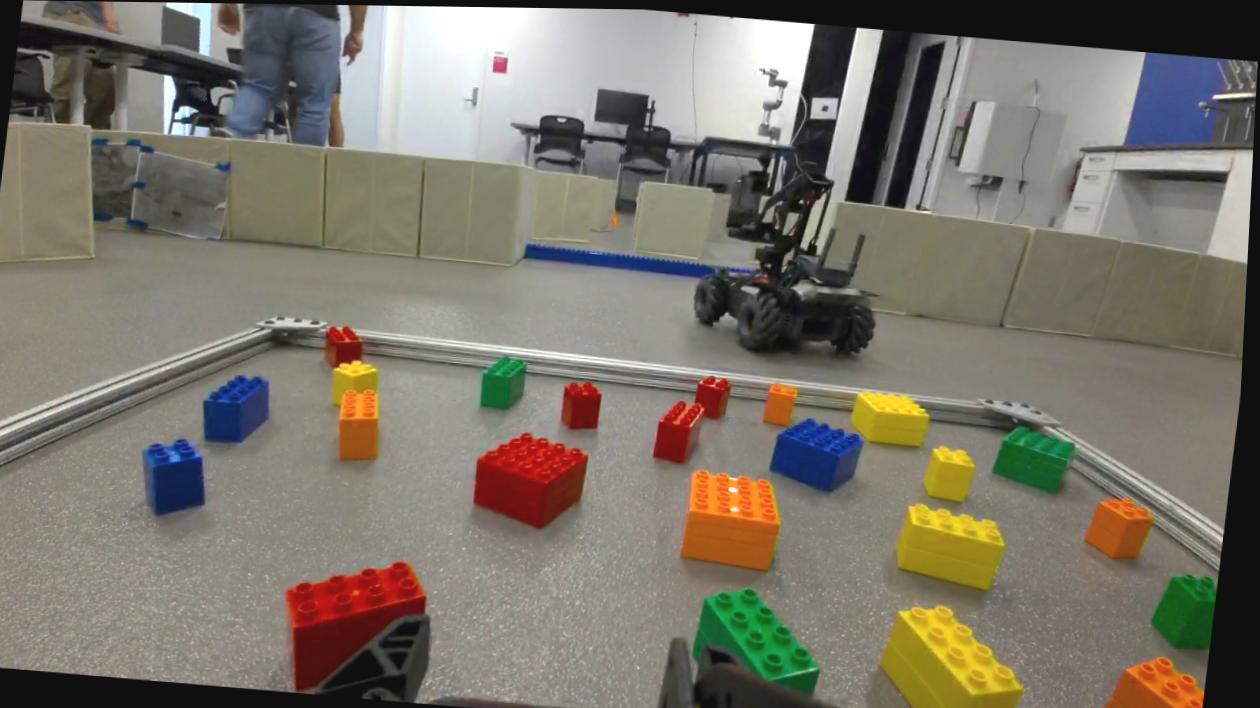2x2lego: (139, 433, 219, 519), (1090, 488, 1161, 562), (926, 441, 984, 499), (562, 374, 611, 436), (763, 378, 805, 426), (330, 355, 383, 392), (697, 370, 739, 416)
2x4lego: (280, 550, 441, 693), (877, 595, 1040, 708), (694, 579, 836, 695), (896, 498, 1018, 591), (202, 365, 280, 450), (335, 385, 395, 466), (654, 393, 713, 464), (479, 350, 534, 415), (321, 322, 370, 371)
4x4lego: (474, 425, 600, 532), (685, 463, 791, 571), (772, 410, 873, 497), (994, 418, 1084, 498), (853, 384, 937, 448)
